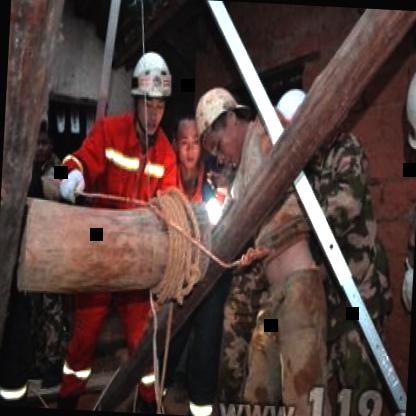head: (168, 104, 203, 174)
helmet: (193, 73, 266, 171), (128, 45, 176, 138), (402, 36, 416, 182)
